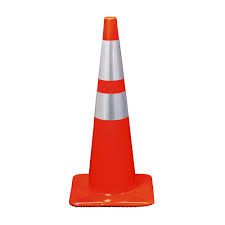cones: (68, 17, 159, 208)
